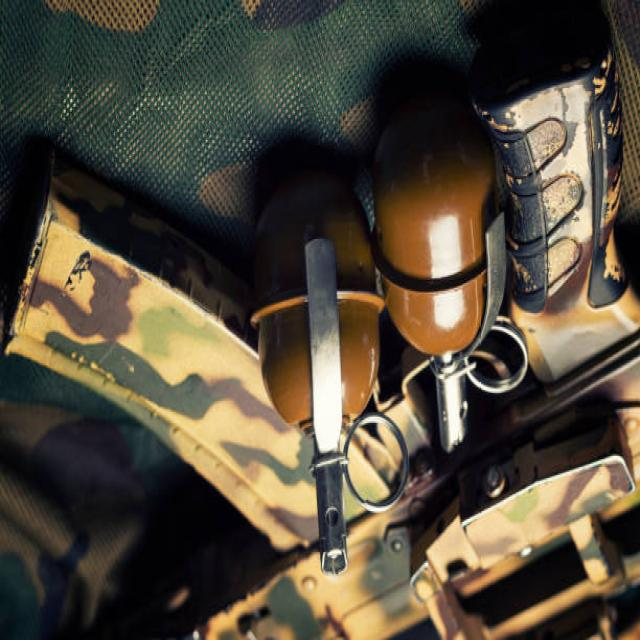grenade: (253, 162, 411, 586), (376, 101, 538, 465)
